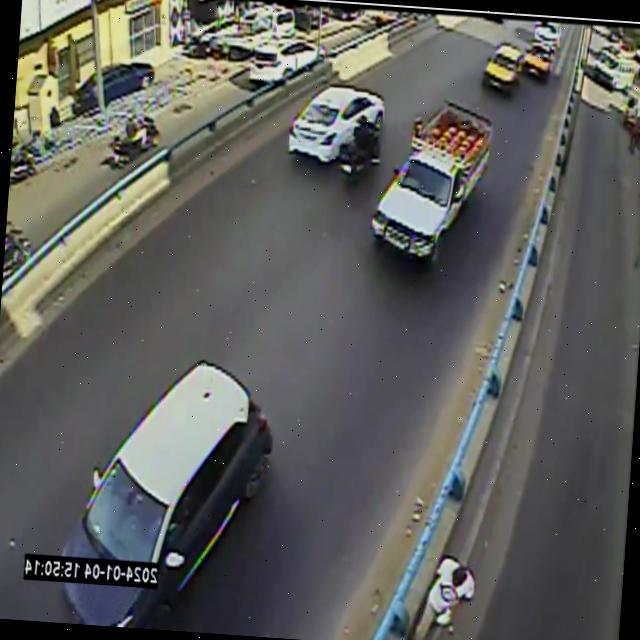car: (61, 360, 272, 628), (371, 101, 491, 261), (288, 85, 385, 162), (249, 39, 324, 84), (483, 43, 524, 95), (526, 34, 556, 79)
